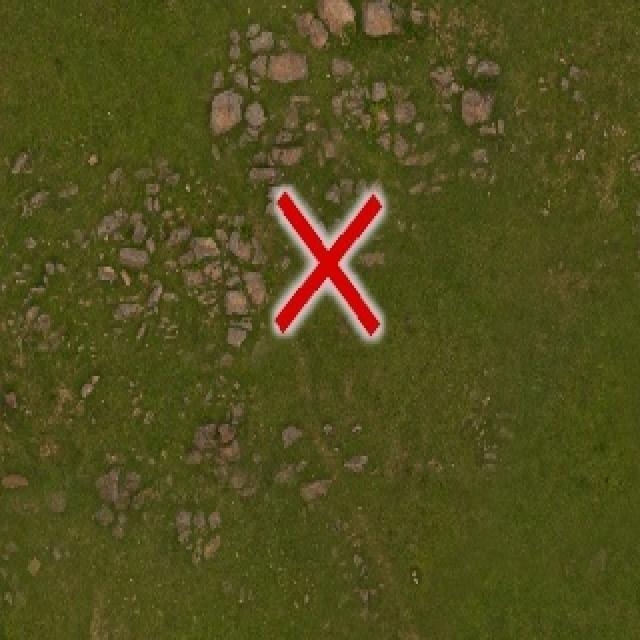x_marker: (275, 190, 381, 334)
